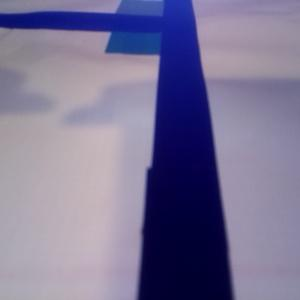bottom_left: (104, 17, 194, 54)
top_left: (115, 1, 192, 31)
